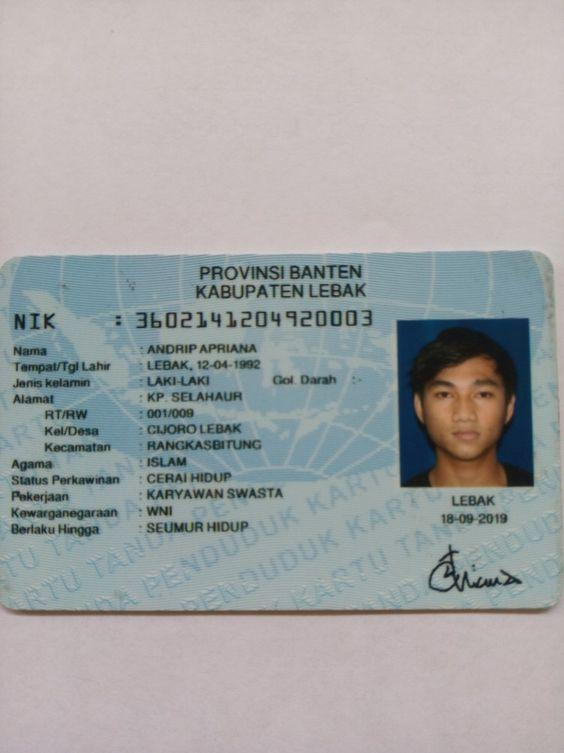ID-card: (3, 252, 555, 612)
